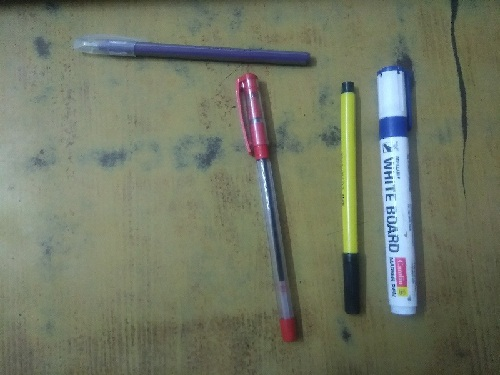pen: (232, 72, 305, 343), (371, 64, 425, 319), (67, 30, 316, 70), (335, 78, 367, 322)
